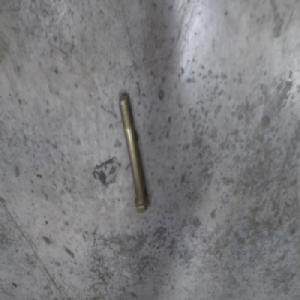Bolt: (119, 90, 149, 210)
